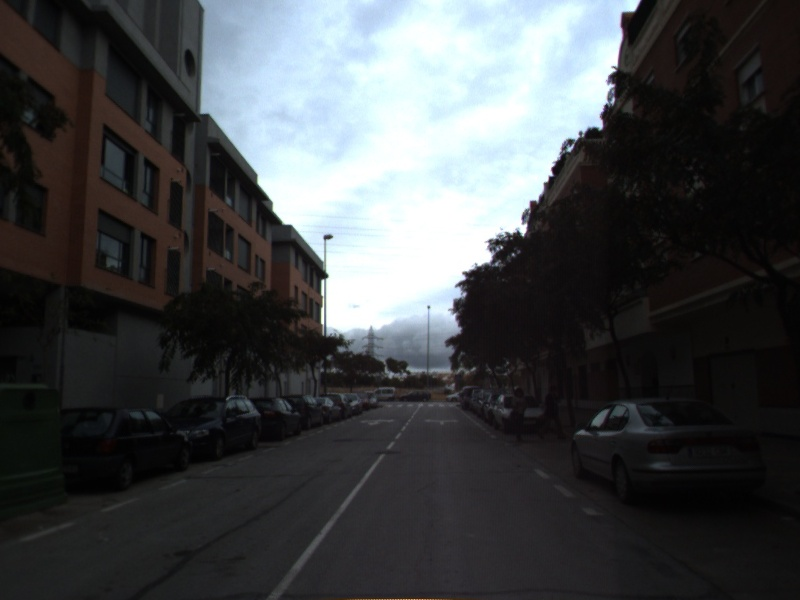LEFT_RIGHT: (422, 416, 462, 426)
